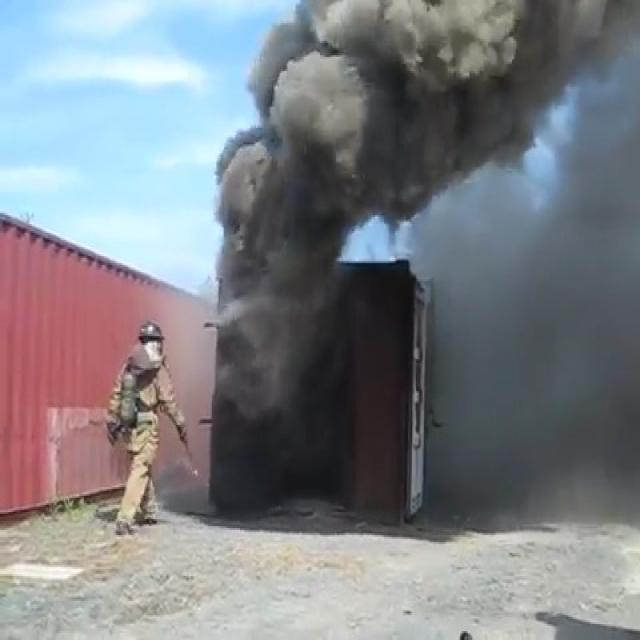Smoke: (238, 0, 616, 224)
